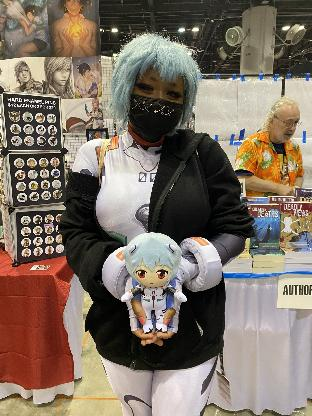rei-plush: (119, 224, 191, 334)
